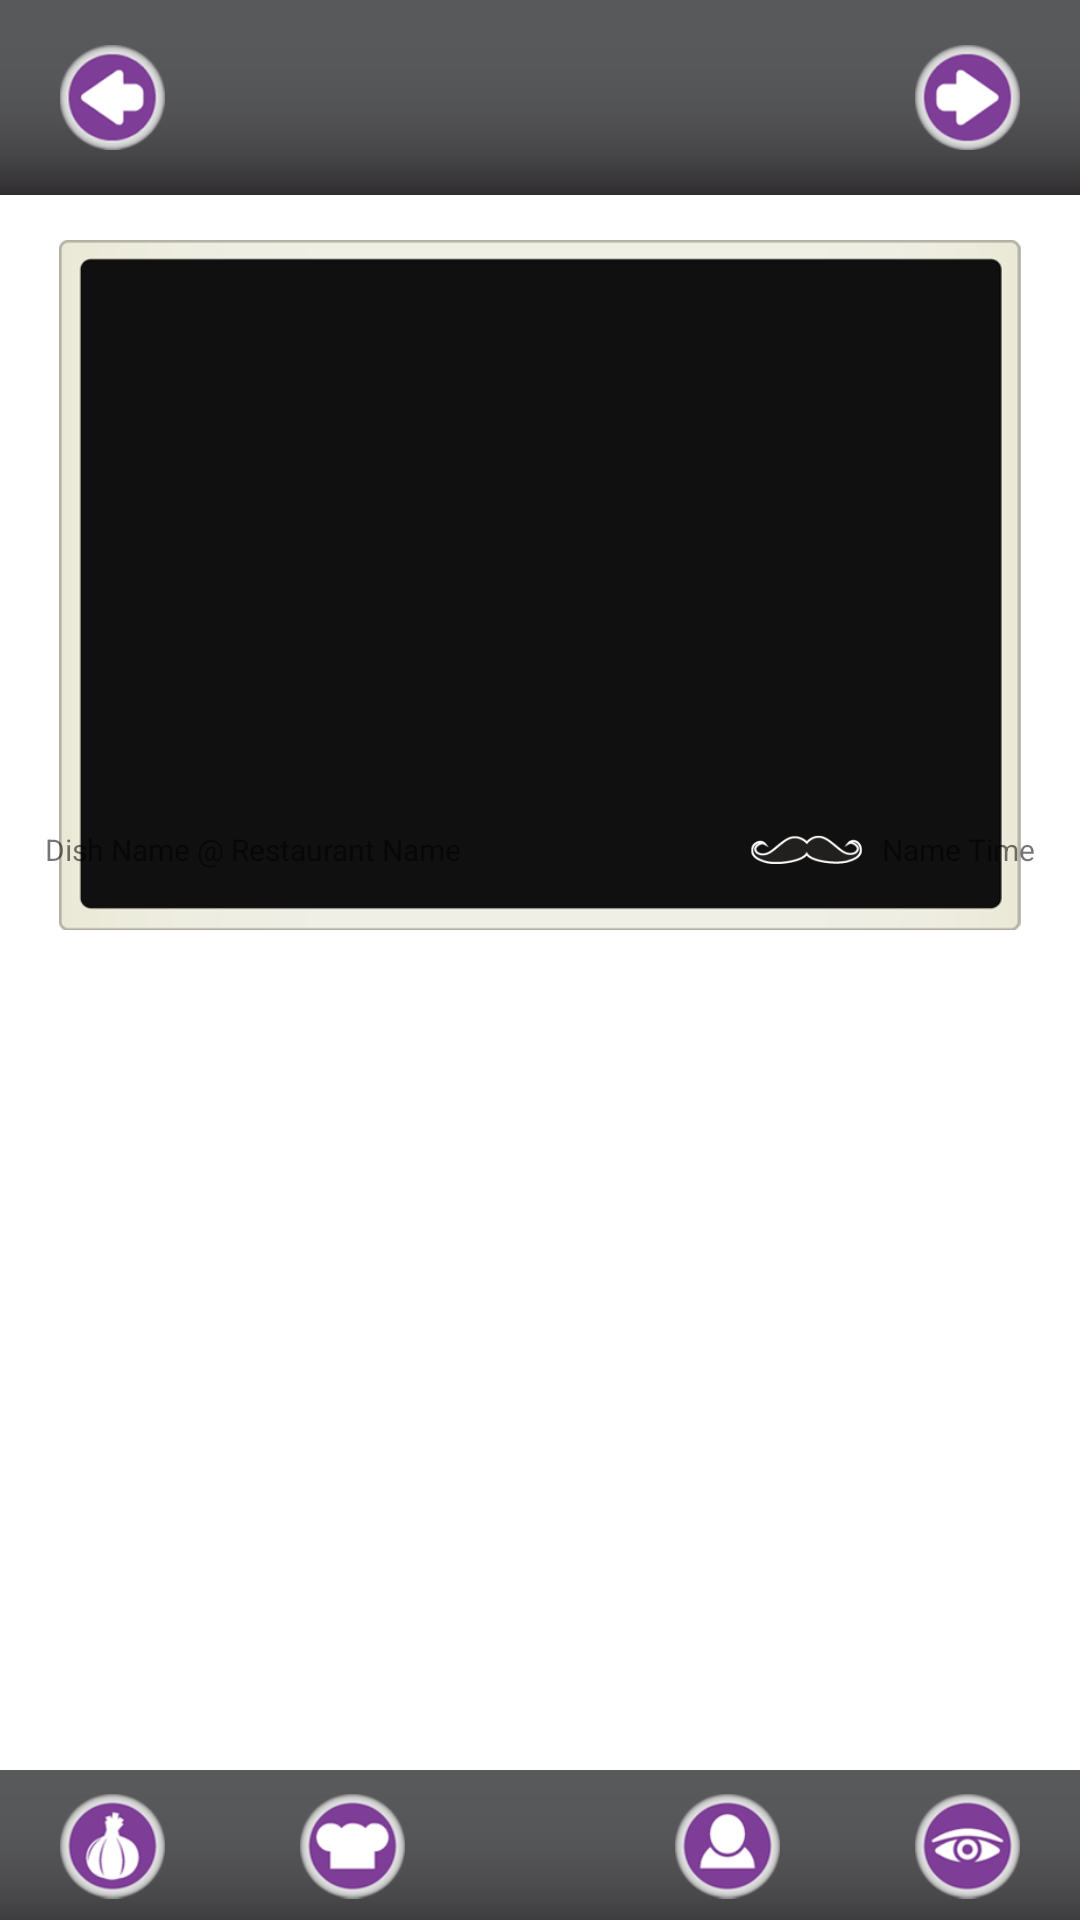

Point at icon controls on the screen. Image size 1080 x 1920, points as [x,y].
other moustache: [806,849]
